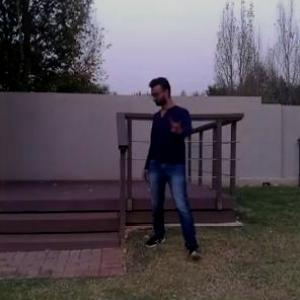takeoff-hand: (167, 111, 192, 139)
